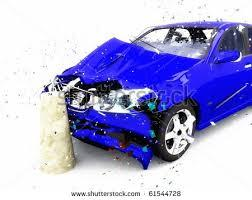Bonnet: (53, 37, 206, 98)
Bumper: (64, 105, 170, 166)
Windshield: (133, 27, 219, 59)
